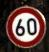Speed Limit -60-: (4, 5, 45, 48)
